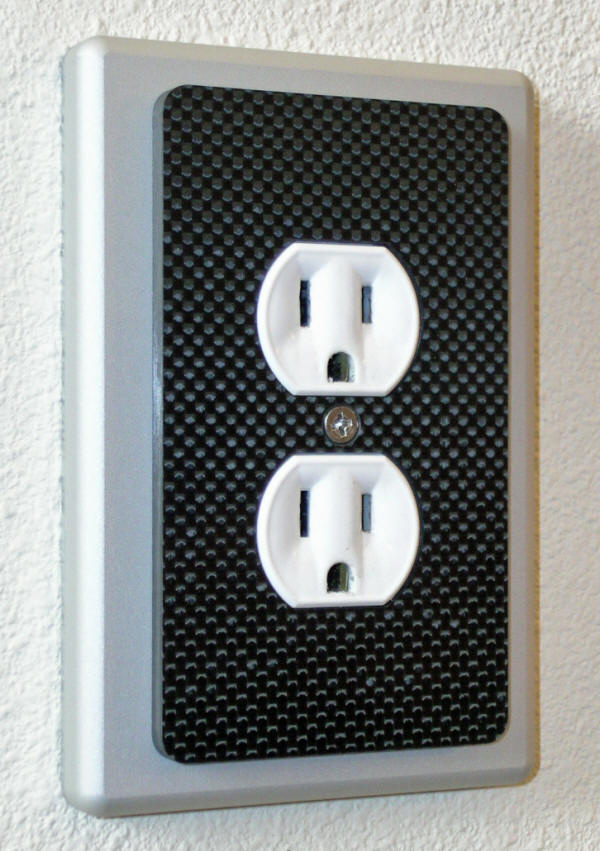outlet: (293, 482, 381, 598), (294, 273, 382, 388)
